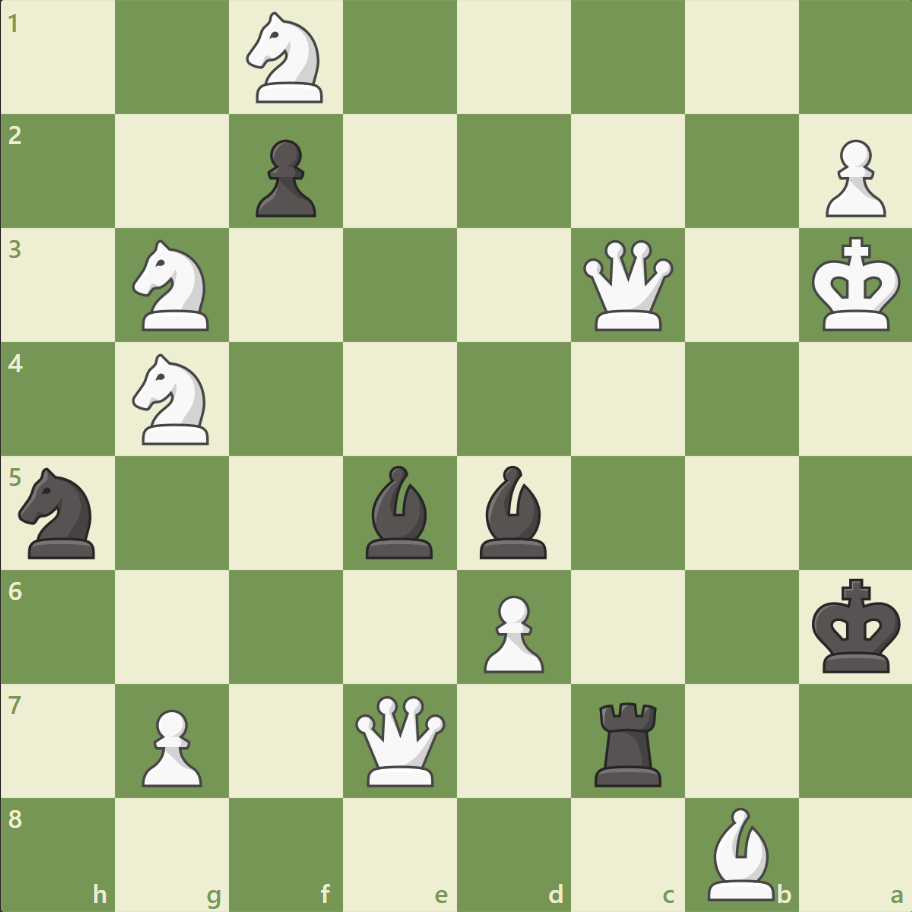B: (698, 801, 782, 904)
K: (806, 231, 906, 339)
N: (124, 234, 222, 337), (124, 348, 222, 450), (238, 7, 335, 110)
P: (133, 700, 208, 791), (474, 586, 549, 677), (815, 132, 889, 223)
Q: (351, 690, 450, 789), (578, 236, 677, 335)
b: (471, 460, 555, 563), (358, 460, 442, 563)
k: (806, 571, 906, 679)
n: (11, 461, 108, 564)
p: (247, 132, 322, 223)
r: (587, 693, 670, 790)
